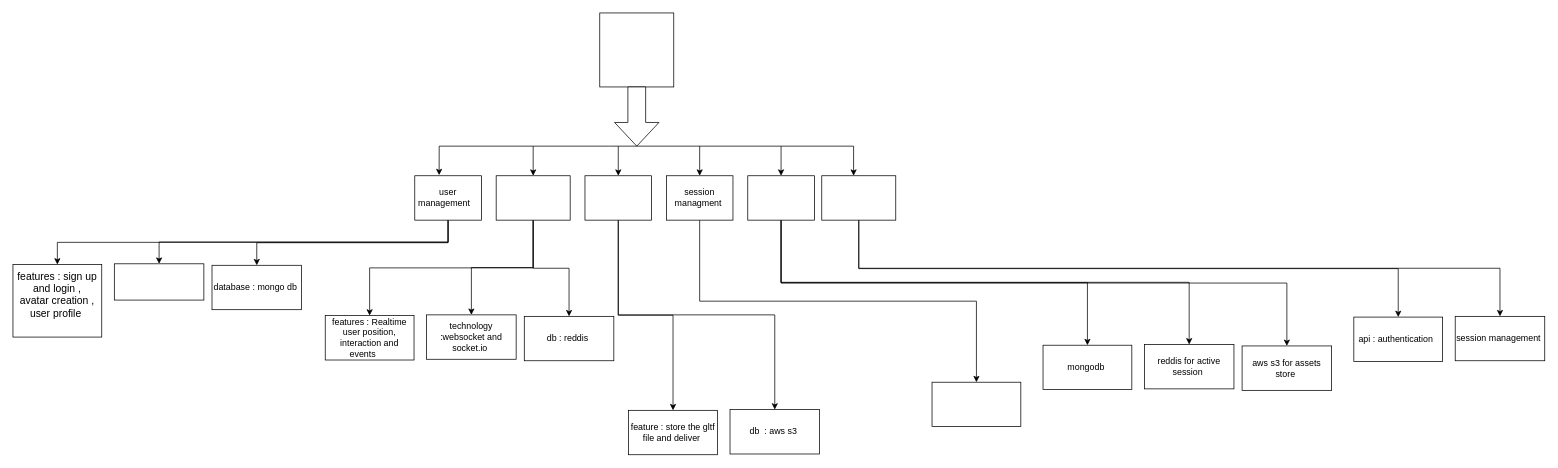
Some shapes in this 1558 by 468 pixel diagram are drawn without their labels. Here are the shapes that lost their labels. From the top down, the centre of each, then its label:
point (636, 49): 3d app
point (532, 197): multiplayer service
point (618, 197): 3d assets management
point (780, 197): db design
point (858, 197): api design
point (159, 281): authentication : rest api
point (976, 404): feature : logs and user action
